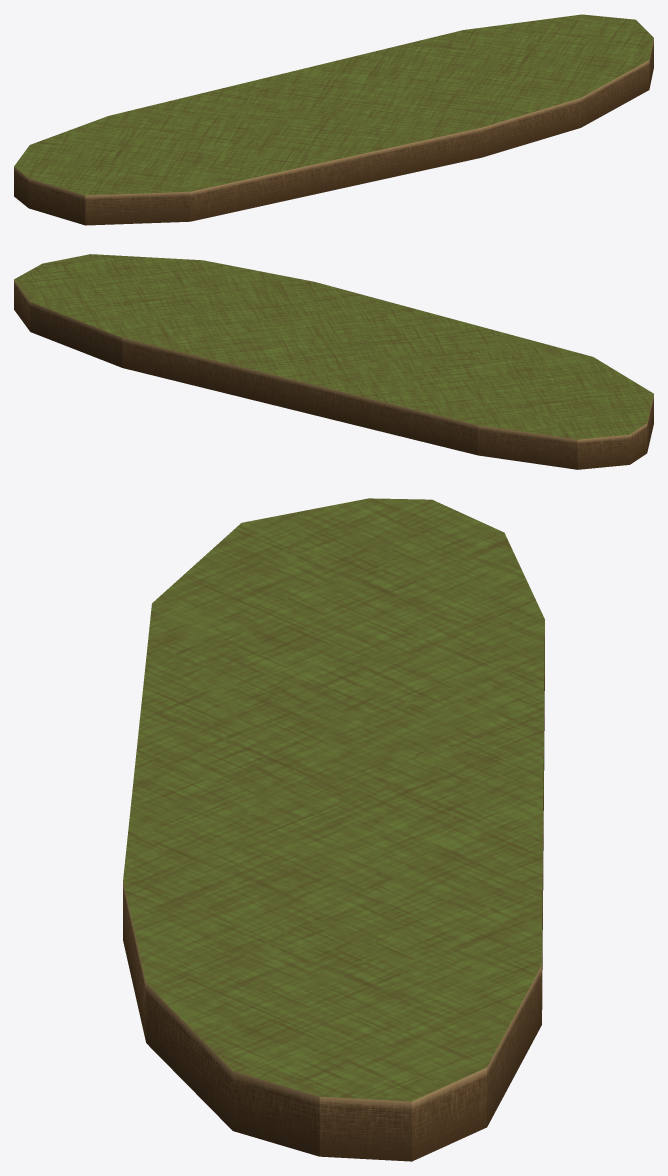
The model's file is Terrain05_F.FBX.
3 renders of one model, top to bottom at view 1: azimuth 30°, elevation 25°; view 2: azimuth 150°, elevation 25°; view 3: azimuth 270°, elevation 25°, orthographic. The views are drawn at different scales.
Visible parts, largest first — view 1: Terrain05_F; view 2: Terrain05_F; view 3: Terrain05_F.
Part boxes in pixels (box(x1,y1,x2,y2)): Terrain05_F: box(14, 14, 653, 225); Terrain05_F: box(14, 254, 653, 469); Terrain05_F: box(123, 498, 544, 1161).
Bounding box in the file's own units: 1091 × 50.55 × 322.
1 material, 1 textured.
